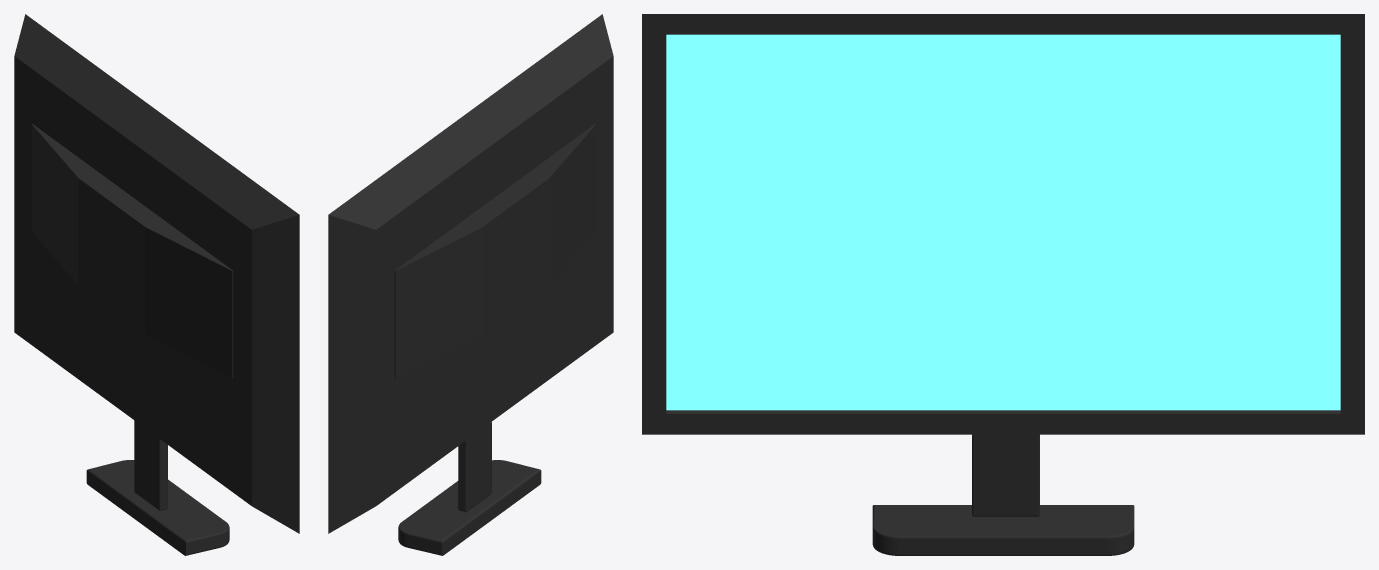
Rendered from xianshiqi.FBX.
The picture shows the model from 3 angles, left to right: view 1: azimuth 30°, elevation 25°; view 2: azimuth 150°, elevation 25°; view 3: azimuth 270°, elevation 25°; orthographic projection. The views are drawn at different scales.
Visible parts, largest first — view 1: Rectangle09, Rectangle08, Rectangle07, Rectangle10; view 2: Rectangle09, Rectangle08, Rectangle07, Rectangle10; view 3: 对象12, Rectangle09, Rectangle07, Rectangle10.
Boxes of the visible parts, box(x1,y1,x2,y2) form: Rectangle09: box(14, 14, 299, 533); Rectangle08: box(31, 124, 233, 378); Rectangle07: box(86, 460, 229, 555); Rectangle10: box(134, 420, 167, 510); Rectangle09: box(328, 14, 613, 533); Rectangle08: box(394, 124, 596, 378); Rectangle07: box(398, 460, 541, 555); Rectangle10: box(458, 422, 491, 511); 对象12: box(666, 34, 1340, 410); Rectangle09: box(642, 14, 1364, 434); Rectangle07: box(872, 505, 1134, 555); Rectangle10: box(972, 434, 1039, 516).
Bounding box in the file's own units: 12.63 × 63.89 × 79.5.
